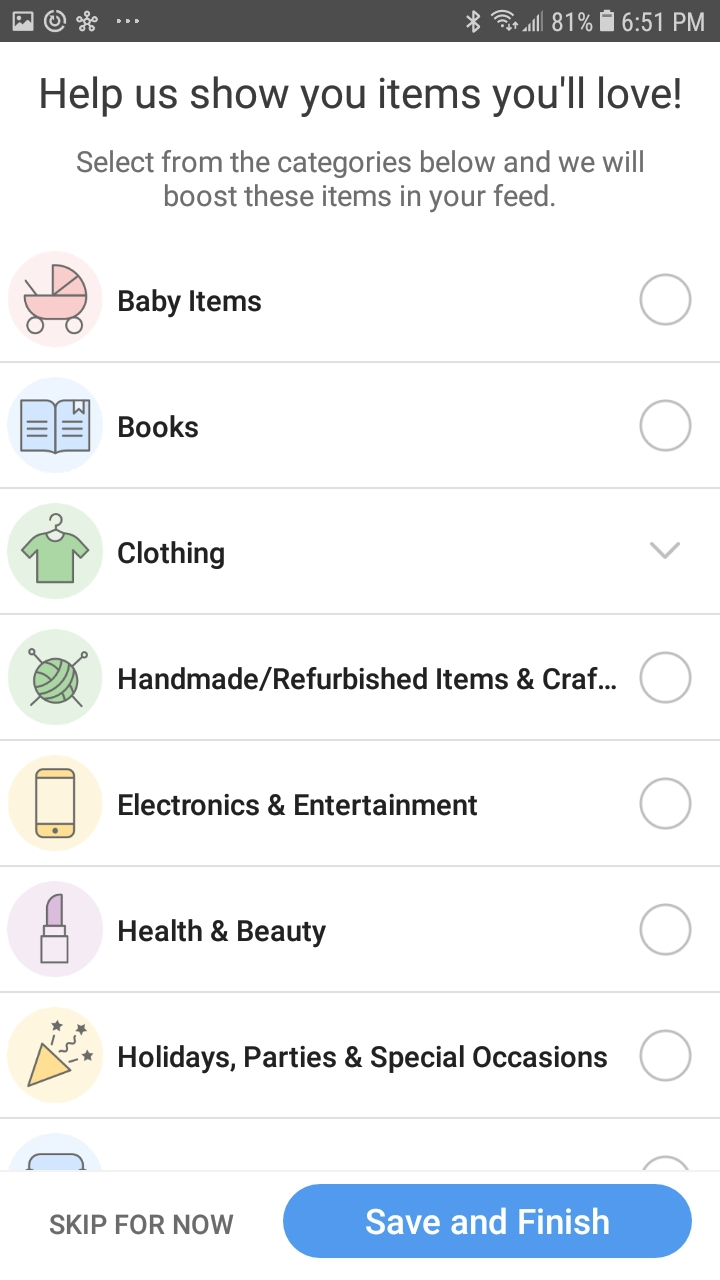CheckedTextView: (119, 273, 692, 327), (119, 400, 692, 453), (119, 651, 692, 704), (119, 777, 692, 830), (119, 903, 692, 956), (119, 1029, 692, 1082)
Icon: (650, 542, 681, 560)
Image: (8, 252, 104, 349), (8, 881, 104, 978), (8, 504, 104, 600), (9, 755, 104, 852), (8, 377, 103, 473), (8, 1007, 104, 1102), (9, 629, 103, 726)
Text: (77, 150, 644, 213), (41, 76, 680, 118), (119, 1044, 607, 1074), (119, 667, 617, 692), (119, 792, 478, 816), (119, 919, 327, 948), (119, 289, 262, 319), (50, 1214, 234, 1235), (118, 541, 225, 570), (119, 415, 200, 439)
TextButton: (284, 1184, 693, 1259)
UpperTaskBar: (1, 1, 720, 43)
